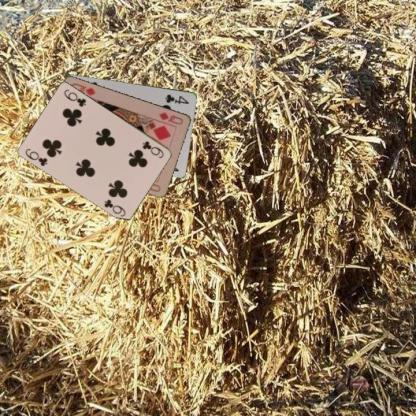4c: (162, 92, 190, 106)
6c: (22, 146, 50, 168), (140, 138, 165, 160)
Qd: (156, 109, 184, 126)
